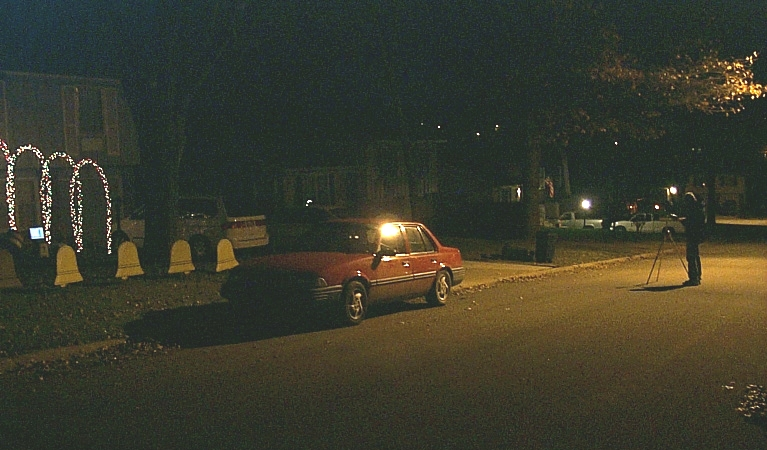car: (101, 191, 274, 266)
